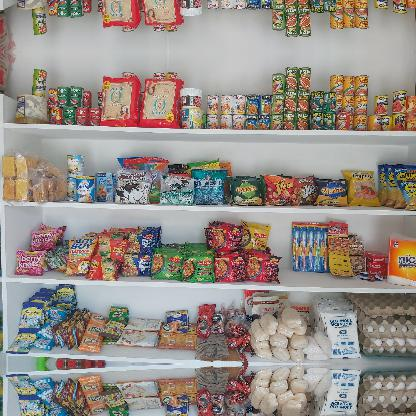Lady-s-Choice: (14, 94, 48, 124), (14, 0, 49, 11)
